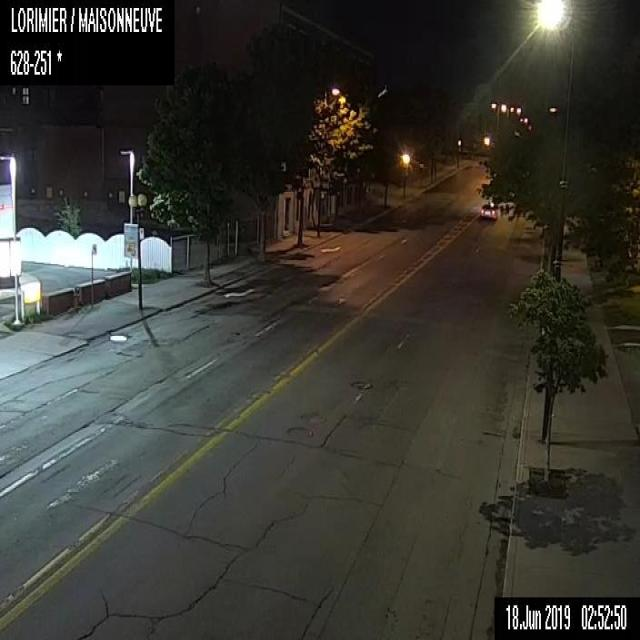vehicle: (480, 202, 497, 218)
